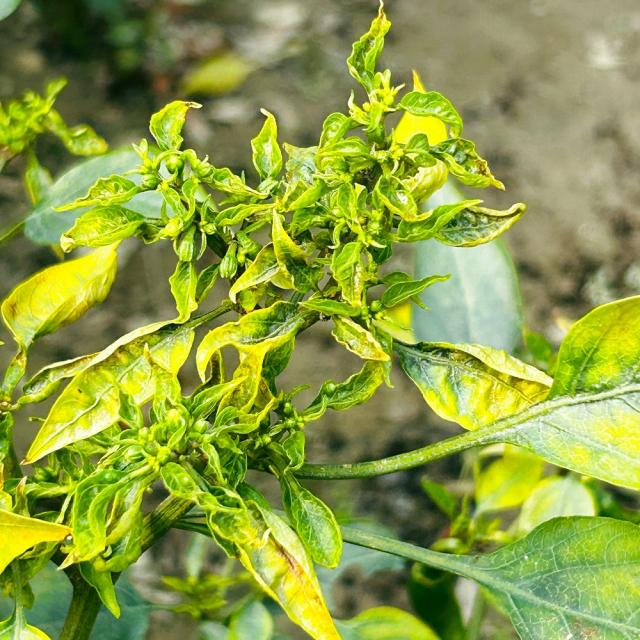Chilli_Leaf_Curl: (1, 1, 638, 638), (293, 293, 638, 493)
